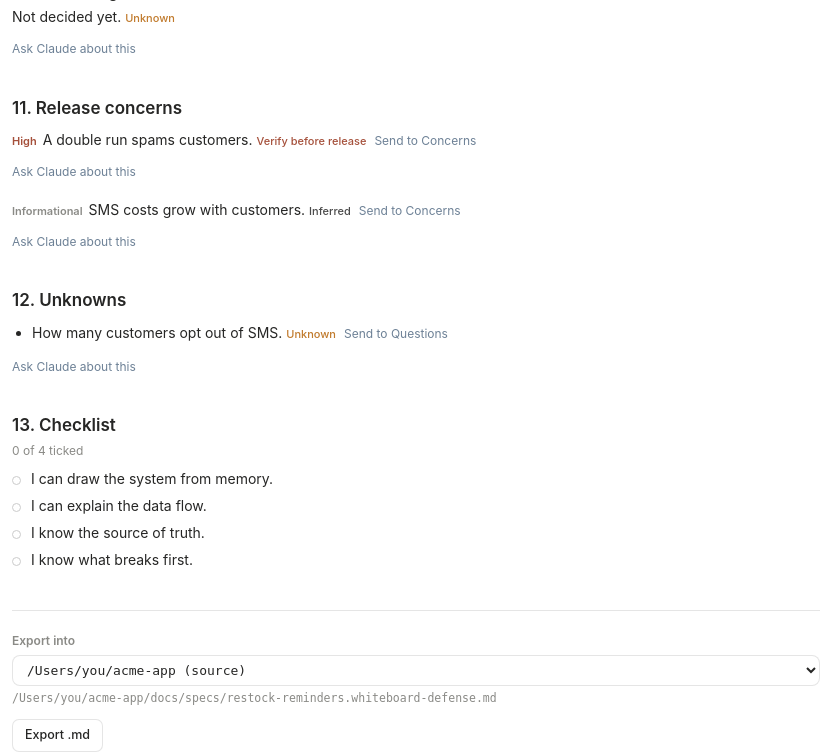
Test: Export .md › shows why Export was refused
The width and height of the screenshot is (837, 752).
(page scrolled)
Click the button "Export .md".
click(58, 736)  # box [12,719,103,751]
(page scrolled)
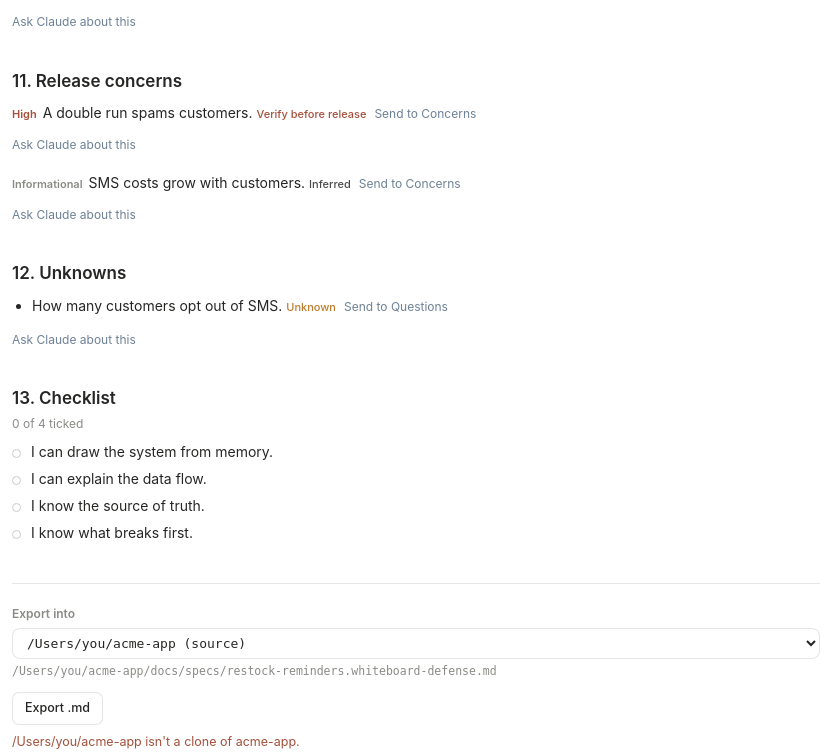
Check: the message reads "/Users/you/acme-app isn't a clone of acme-app.", box [12,734,300,749]
